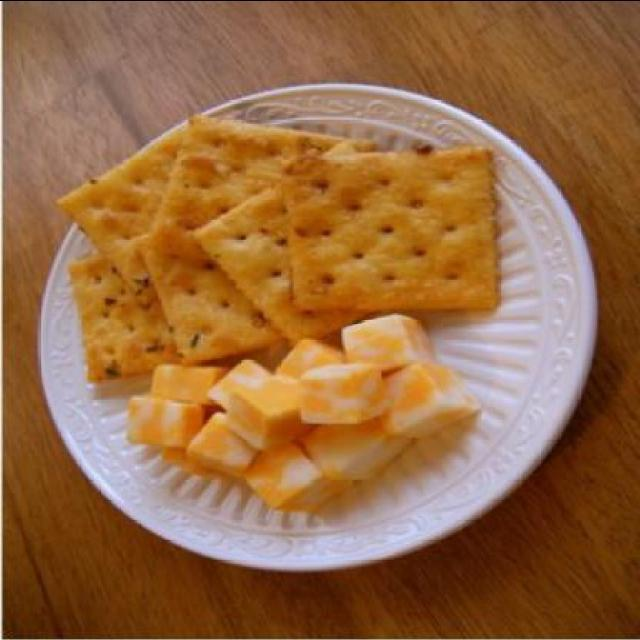Cracker packaged: (268, 132, 506, 316)
